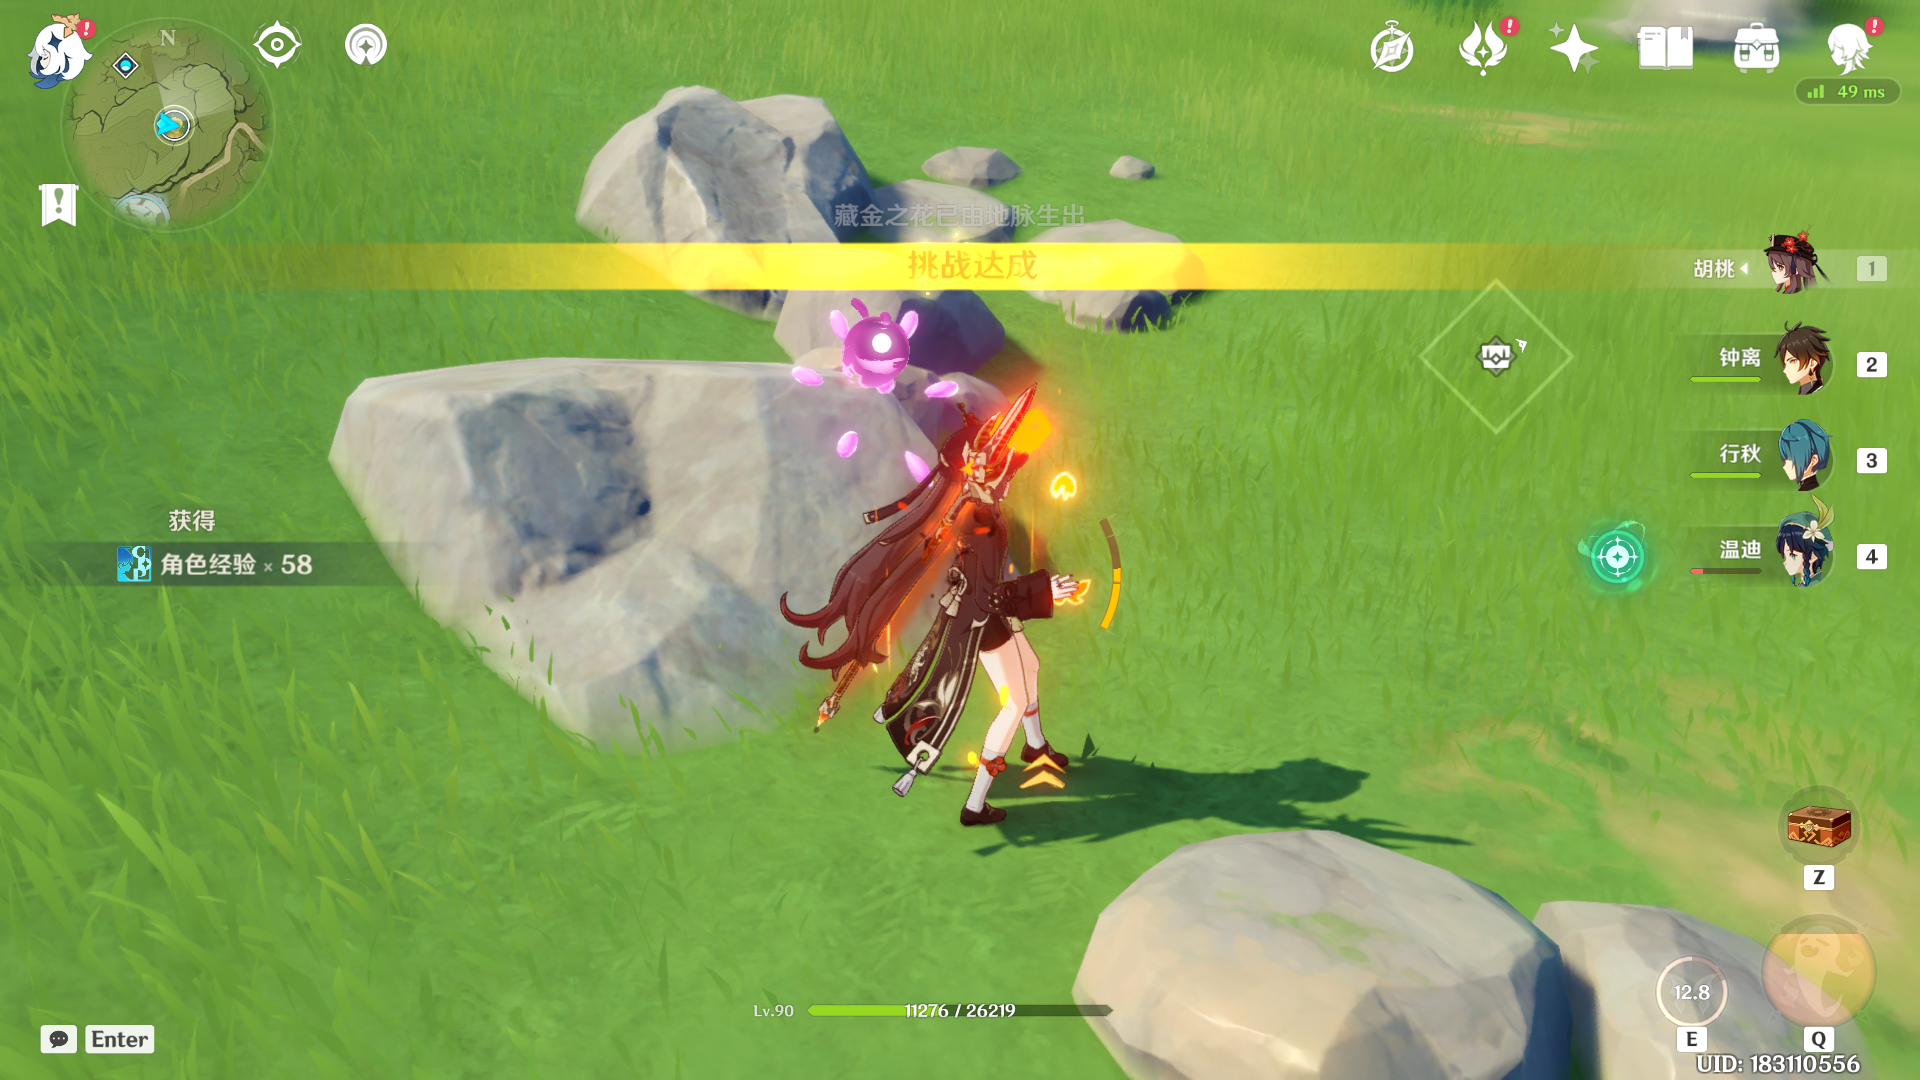character: (812, 356, 1153, 856)
